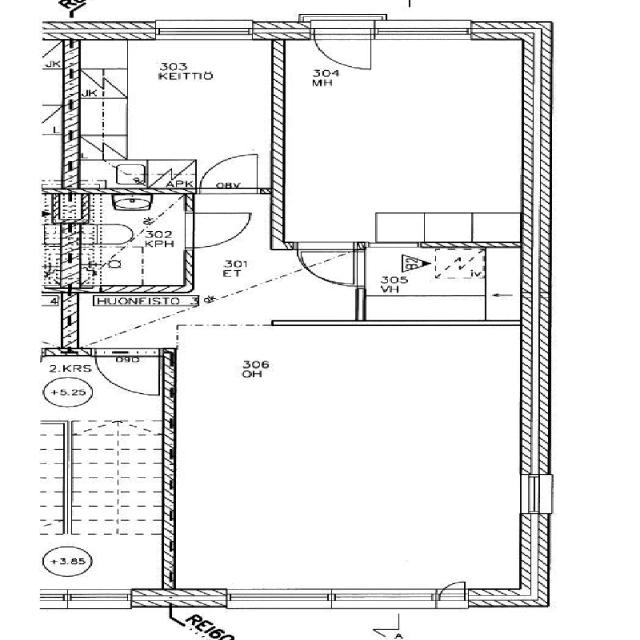door: (309, 20, 378, 76), (293, 244, 366, 290), (95, 351, 162, 398), (197, 149, 270, 191), (182, 208, 253, 250), (432, 580, 471, 608), (368, 620, 401, 640)
window: (370, 20, 480, 46), (222, 585, 336, 609), (150, 20, 258, 43), (514, 470, 560, 522), (328, 588, 434, 607), (62, 588, 136, 609)
zone: (284, 37, 532, 233), (74, 36, 280, 180), (51, 413, 170, 610), (360, 244, 526, 323), (61, 191, 188, 293), (71, 296, 186, 353)
